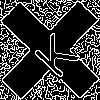K: (25, 25, 81, 81)
